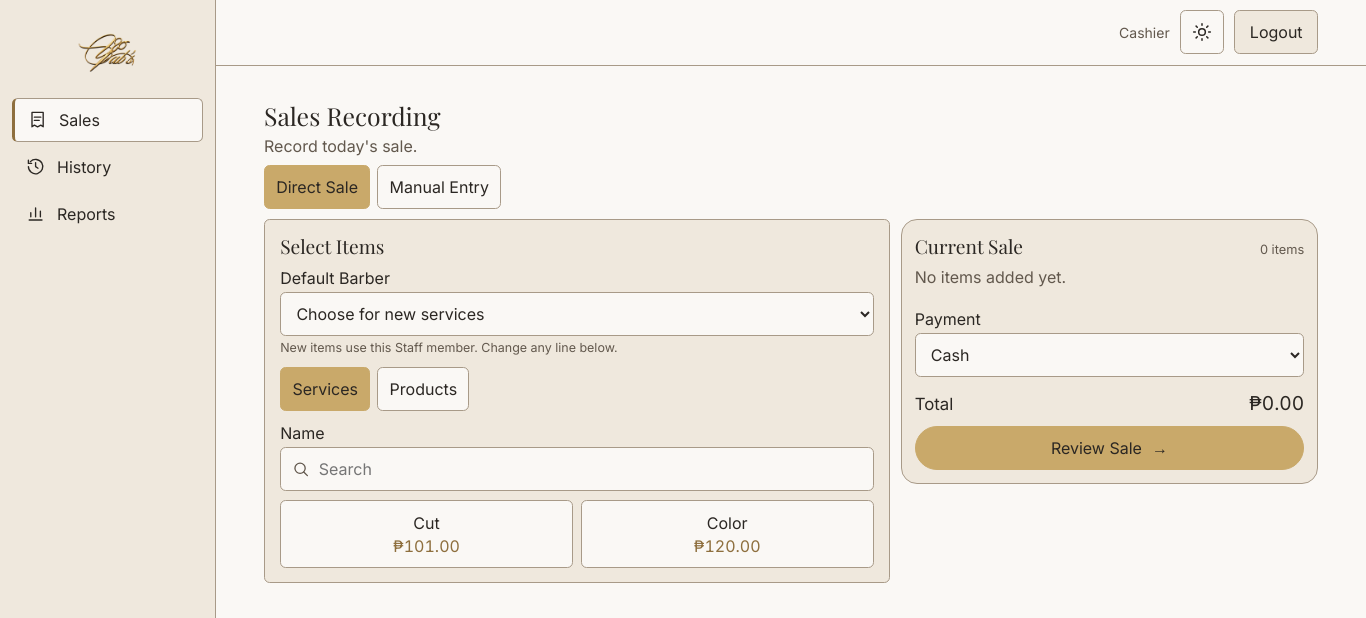
Scenario: keeps the UUID after lost reservation response and retries that exact reservation
Expected: the heading "Sales Recording" is shown, [264,99,440,132]
Expected: the text "No items added yet." is shown, [915,267,1066,287]
Click the button "Products" at x=423, y=389, box [377,367,469,411]
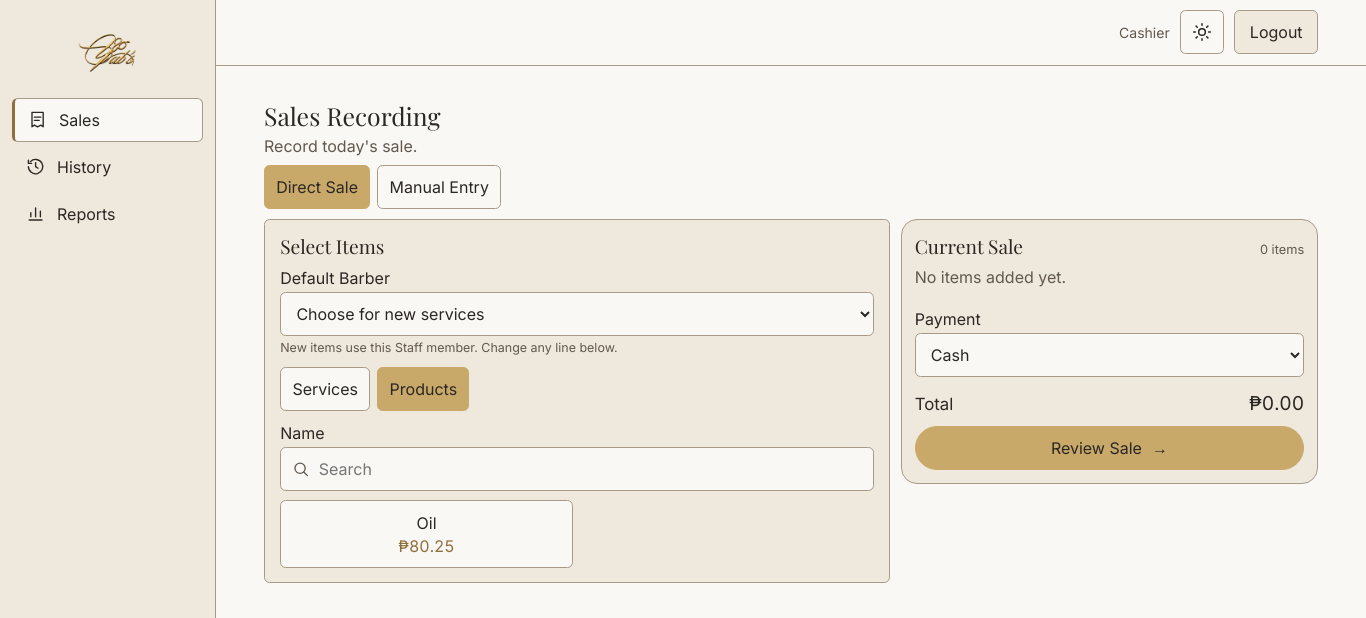
Click the button "Oil ₱80.25" at x=427, y=534, box [280,500,573,568]
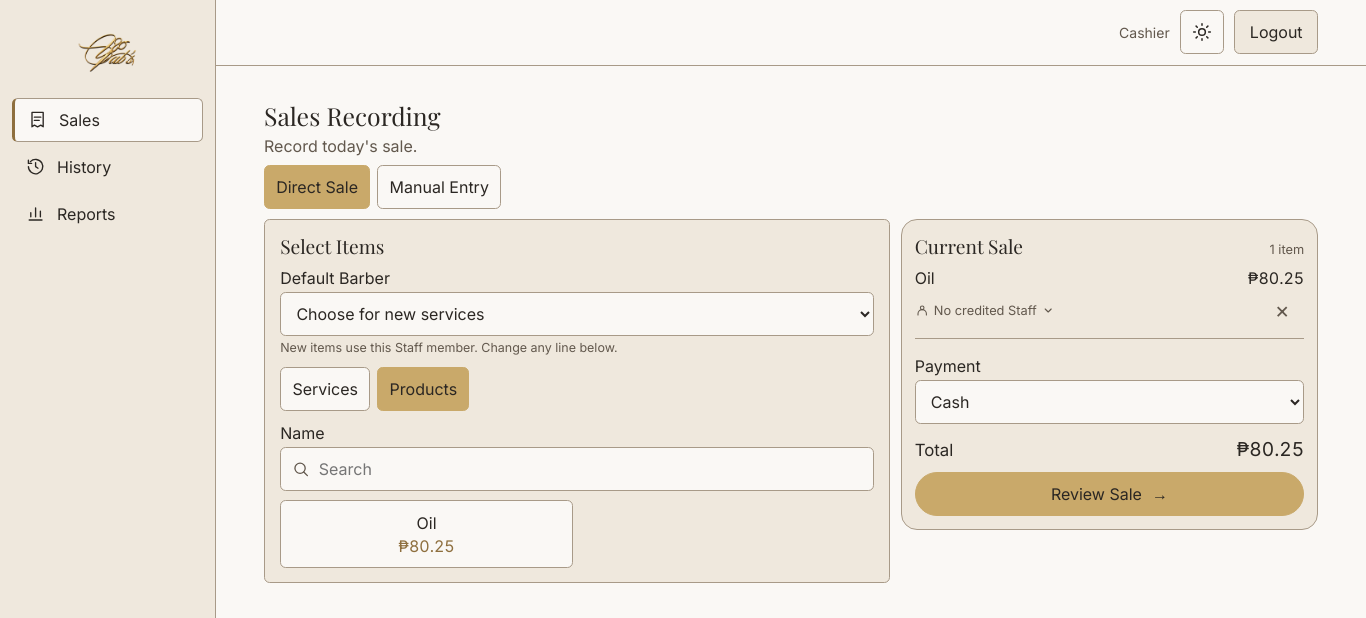
Click the button "Review Sale →" at x=1109, y=494, box [915,472,1304,516]
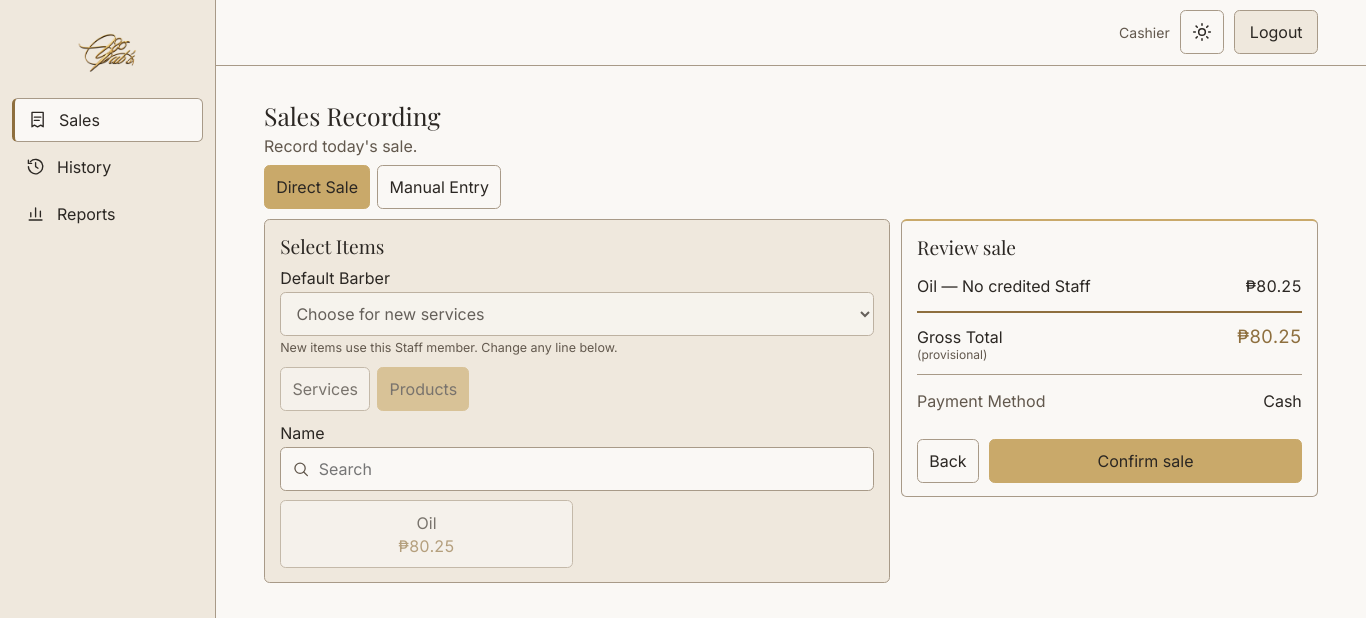
Click the button "Confirm sale" at x=1146, y=461, box [989,439,1302,483]
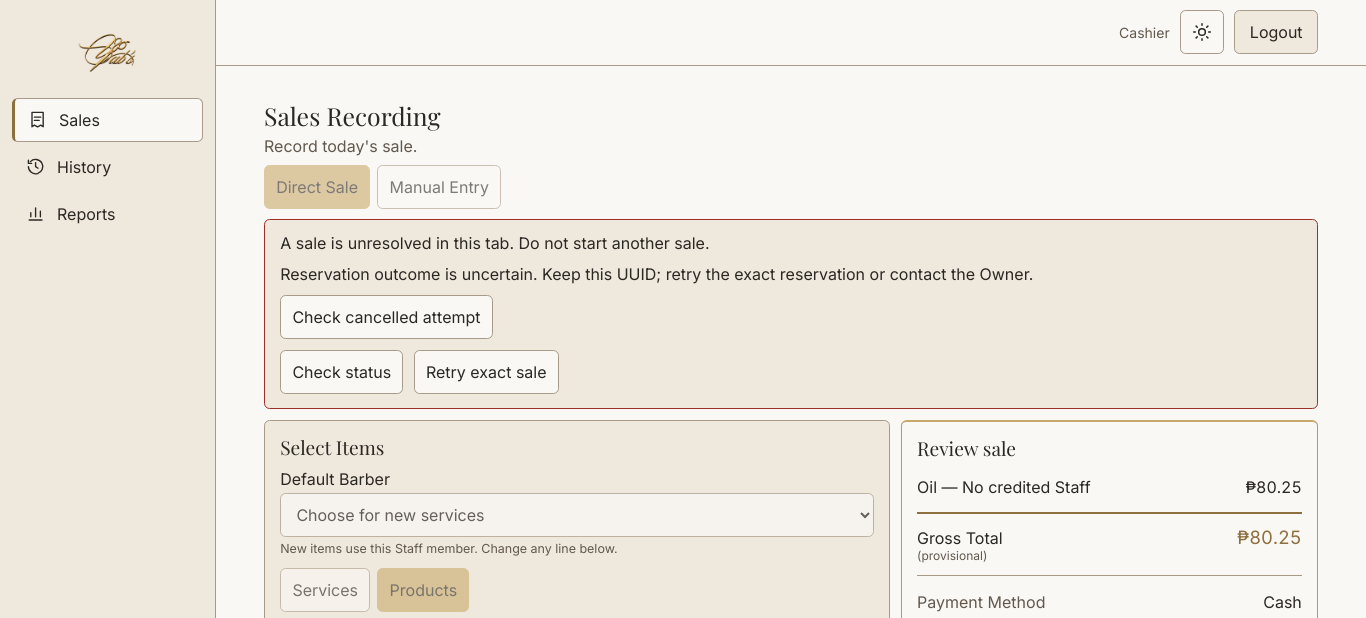
Result: the text "Reservation outcome is uncertain" is shown at [280,264,1033,284]
Click the button "Retry exact sale" at x=486, y=372, box [414,350,559,394]
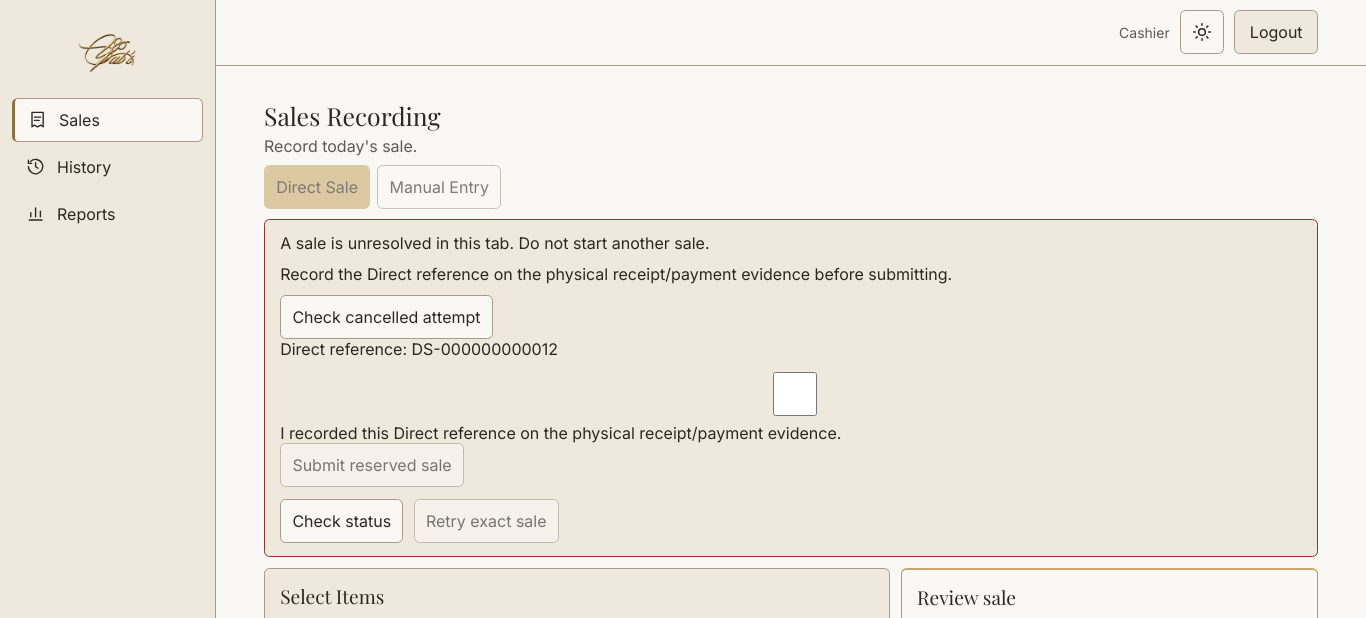
Result: the text "Direct reference: DS-000000000012" is shown at [280,339,558,359]
